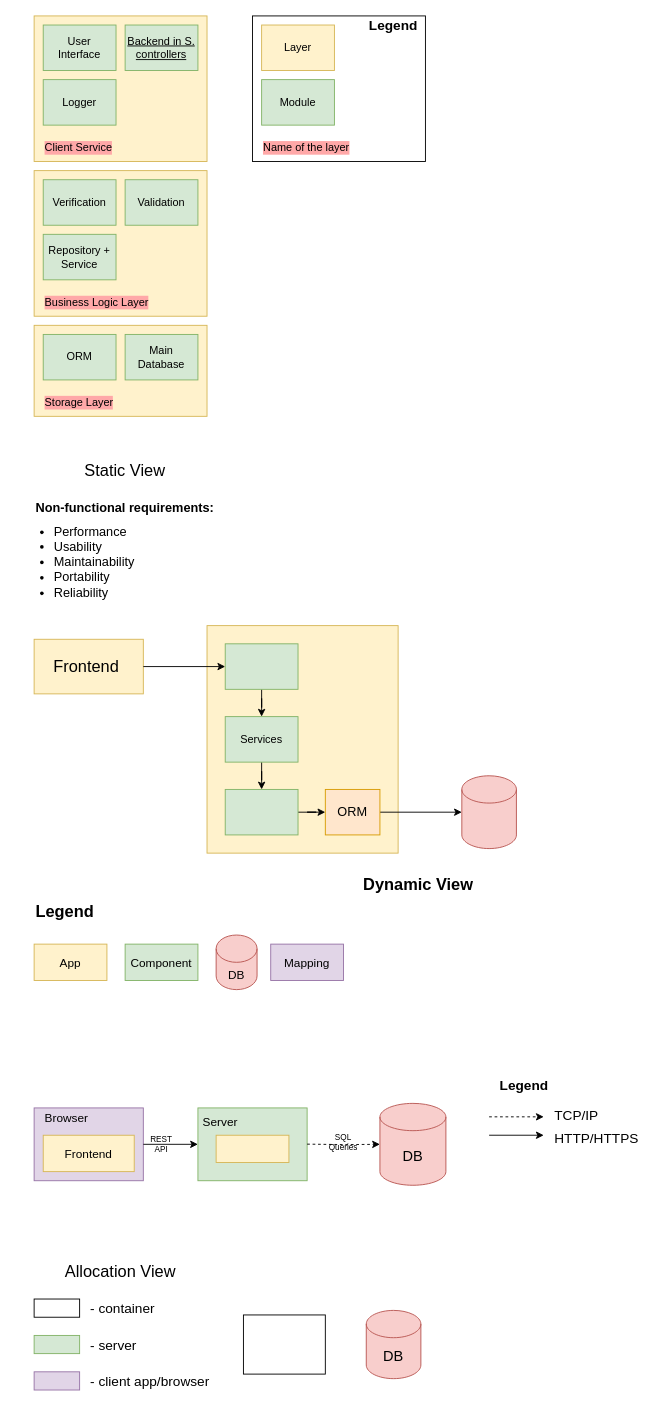
Image size: 659x1406. Some labels were removed from this diagram. Each missing label, with the box of its shape:
Application: (243, 1314, 325, 1374)
Backend: (215, 1134, 289, 1163)
Controllers: (224, 643, 298, 689)
Main DB Oracle: (461, 775, 516, 849)
Repositories: (224, 789, 298, 835)
